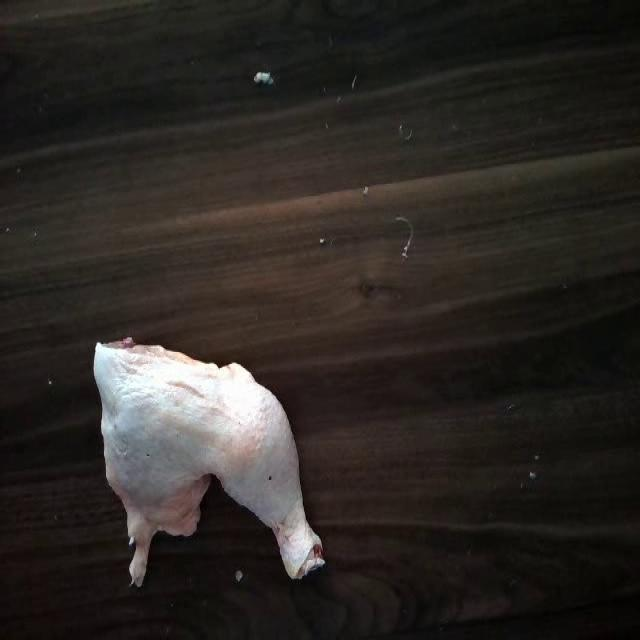quater: (83, 342, 344, 597)
